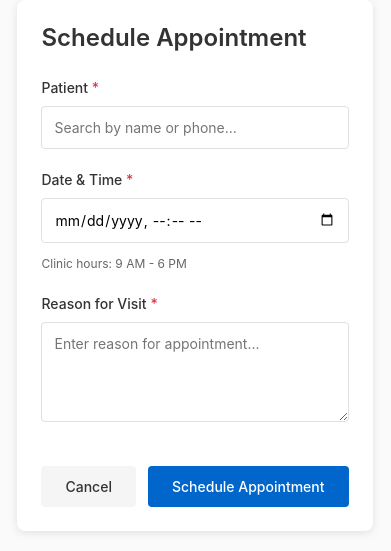
Test: ScheduleAppointmentForm › Patient Search › should display search results
The image size is (391, 551).
Type "John" into the field with placeholder "Search by name or phone...".
click(195, 127); type("John")  # box [42,106,349,149]
Wait 300 ms
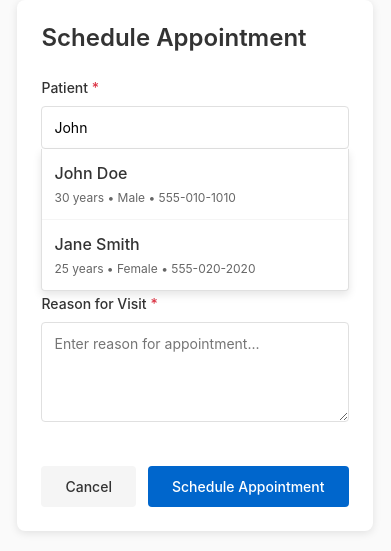
Check: the text "John Doe" is shown, box [54,163,128,183]
Check: the text "30 years • Male • 555-010-1010" is shown, box [54,190,236,205]
